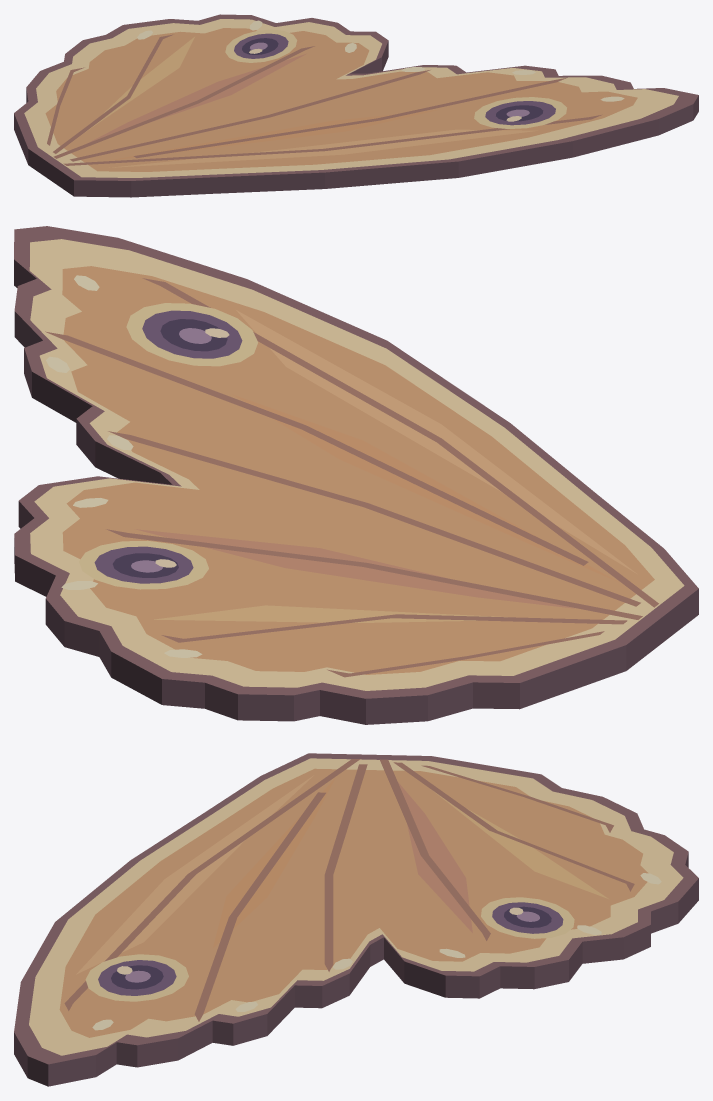
File: butterfly_wing.glb
3 renders of one model, top to bottom at view 1: azimuth 30°, elevation 25°; view 2: azimuth 150°, elevation 25°; view 3: azimuth 270°, elevation 25°, orthographic. The views are drawn at different scales.
Visible parts, largest first — view 1: butterfly_wing; view 2: butterfly_wing; view 3: butterfly_wing.
Boxes of the visible parts, <box> form: butterfly_wing: <box>14,14,698,197</box>; butterfly_wing: <box>14,226,698,724</box>; butterfly_wing: <box>14,753,698,1086</box>.
Bounding box in the file's own units: 0.12 × 0.01 × 0.1.
